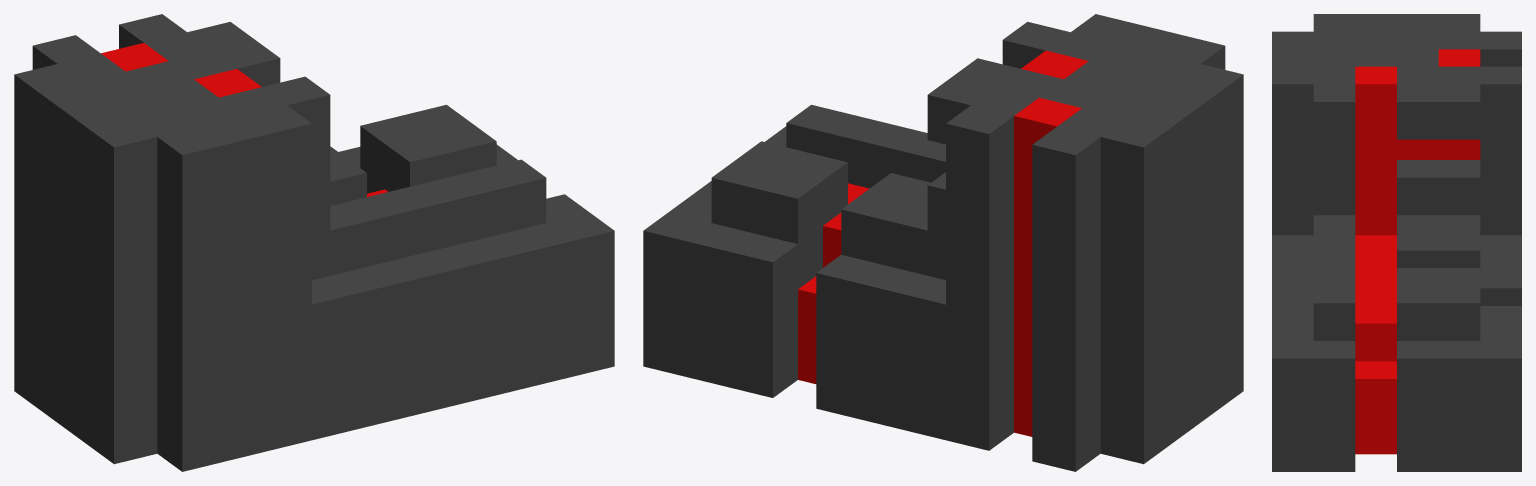
The model's file is golem-0.obj.
3 renders of one model, left to right at view 1: azimuth 30°, elevation 25°; view 2: azimuth 150°, elevation 25°; view 3: azimuth 270°, elevation 25°, orthographic. The views are drawn at different scales.
Size of the model in its own units: 2.2 by 1.4 by 1.2.
Materials: 1 (1 with a texture image).
